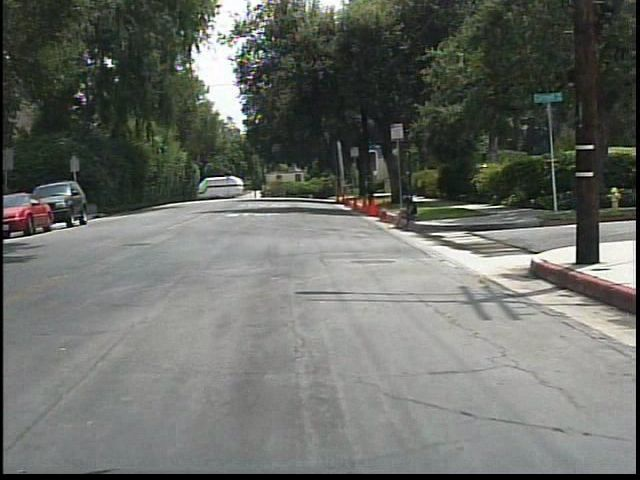person: (389, 191, 423, 235)
